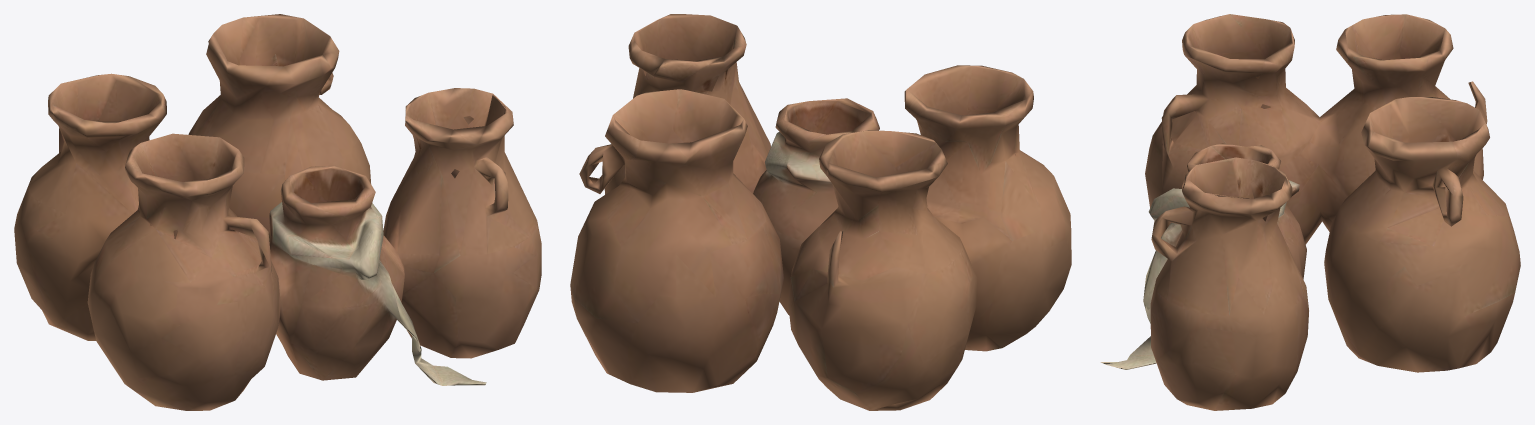
The model's file is pots.glb.
The picture shows the model from 3 angles, left to right: view 1: azimuth 30°, elevation 25°; view 2: azimuth 150°, elevation 25°; view 3: azimuth 270°, elevation 25°; orthographic projection. The views are drawn at different scales.
Parts seen in each view (by area): view 1: pots; view 2: pots; view 3: pots.
Boxes of the visible parts, box(x1,y1,x2,y2) form: pots: box(14, 14, 541, 410); pots: box(570, 14, 1071, 410); pots: box(1100, 14, 1520, 410).
Size of the model in its own units: 0.7716 by 0.42 by 0.6967.
Materials: 1 (1 with a texture image).
